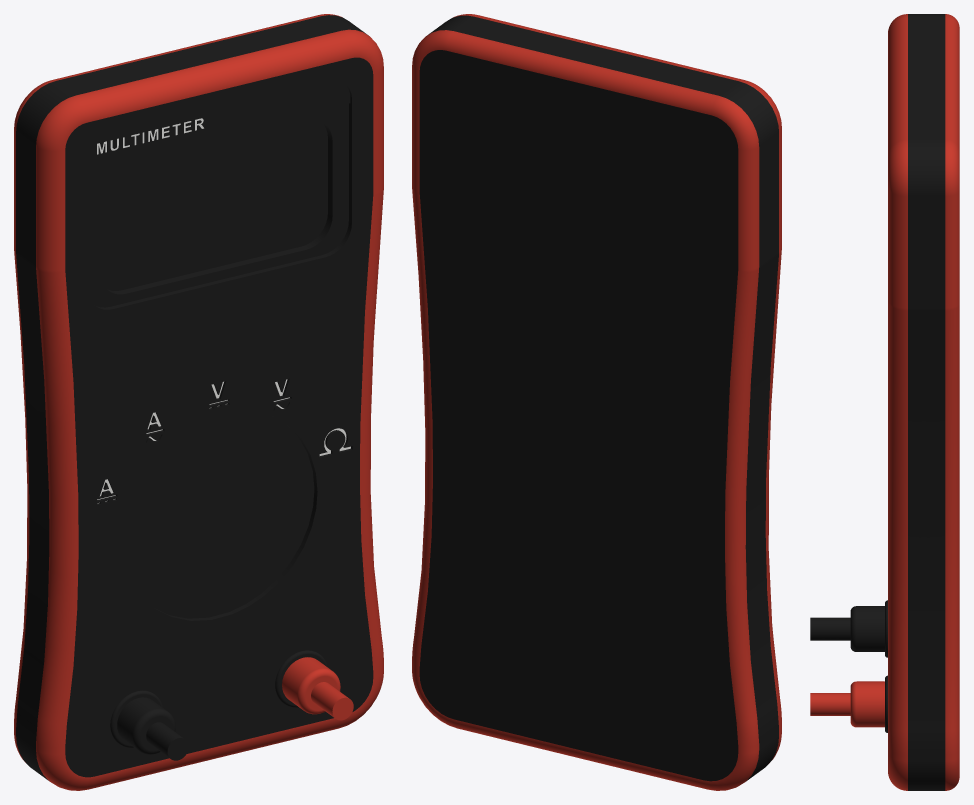
The model's file is Multimeter Mas Robith v11.fbx.
3 renders of one model, left to right at view 1: azimuth 30°, elevation 25°; view 2: azimuth 150°, elevation 25°; view 3: azimuth 270°, elevation 25°, orthographic. The views are drawn at different scales.
Parts seen in each view (by area): view 1: Body1; view 2: Body1; view 3: Body1.
Part boxes in pixels (x1=…): Body1: x1=14, y1=14, x2=383, y2=790; Body1: x1=412, y1=14, x2=781, y2=790; Body1: x1=810, y1=14, x2=959, y2=790.
Size of the model in its own units: 13 by 25 by 5.2.
